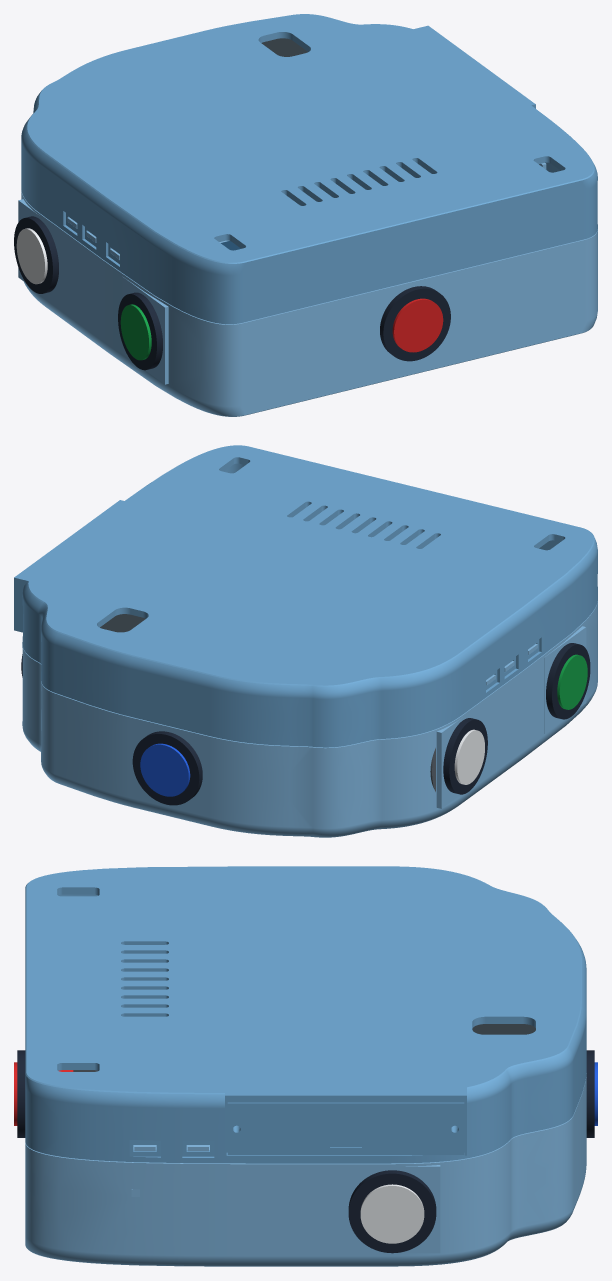
File: cloud-radio.glb
3 views of the same model, one above another, from view 1: azimuth 30°, elevation 25°; view 2: azimuth 150°, elevation 25°; view 3: azimuth 270°, elevation 25° (orthographic). The views are drawn at different scales.
Parts seen in each view (by area): view 1: rear, front, cap_button_bottom, bezel_button_bottom, bezel_button_right, bezel_button_right_lower, cap_button_right_lower, cap_button_right, component_switch; view 2: rear, front, cap_button_top, bezel_button_top, bezel_button_right_lower, bezel_button_right, cap_button_right_lower, cap_button_right, component_switch; view 3: rear, front, battery_door, cap_button_left, bezel_button_left, bezel_button_top, bezel_button_bottom, component_switch.
Part boxes in pixels (<box>): rear: <box>21,14,597,324</box>; front: <box>18,163,597,416</box>; cap_button_bottom: <box>392,298,443,352</box>; bezel_button_bottom: <box>380,286,450,361</box>; bezel_button_right: <box>14,216,58,293</box>; bezel_button_right_lower: <box>118,292,162,370</box>; cap_button_right_lower: <box>120,304,151,360</box>; cap_button_right: <box>16,228,47,284</box>; component_switch: <box>261,38,307,56</box>; rear: <box>14,445,597,747</box>; front: <box>22,601,597,837</box>; cap_button_top: <box>140,743,190,796</box>; bezel_button_top: <box>132,731,202,805</box>; bezel_button_right_lower: <box>546,643,590,719</box>; bezel_button_right: <box>443,718,487,794</box>; cap_button_right_lower: <box>557,654,587,709</box>; cap_button_right: <box>454,729,484,784</box>; component_switch: <box>100,614,145,632</box>; rear: <box>25,866,586,1163</box>; front: <box>25,1073,586,1266</box>; battery_door: <box>227,1102,464,1154</box>; cap_button_left: <box>360,1184,424,1243</box>; bezel_button_left: <box>348,1170,436,1253</box>; bezel_button_top: <box>586,1050,594,1137</box>; bezel_button_bottom: <box>17,1050,25,1137</box>; component_switch: <box>472,1024,535,1034</box>.
Bounding box in the file's own units: 0.2145 × 0.072 × 0.2195.
